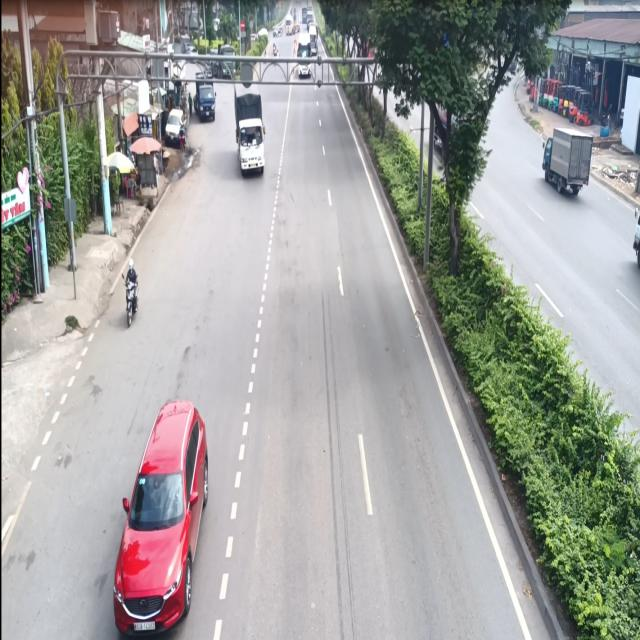car: (110, 394, 209, 640)
motor: (118, 256, 142, 331)
truck: (228, 82, 268, 183)
